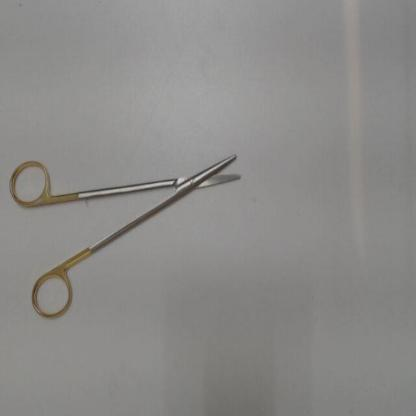7 Metzenbaum Scissors: (10, 152, 242, 322)
